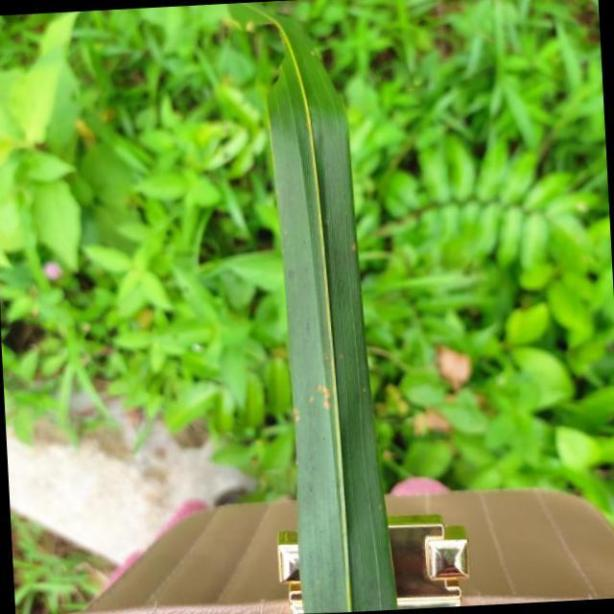Boron: (256, 0, 400, 614)
